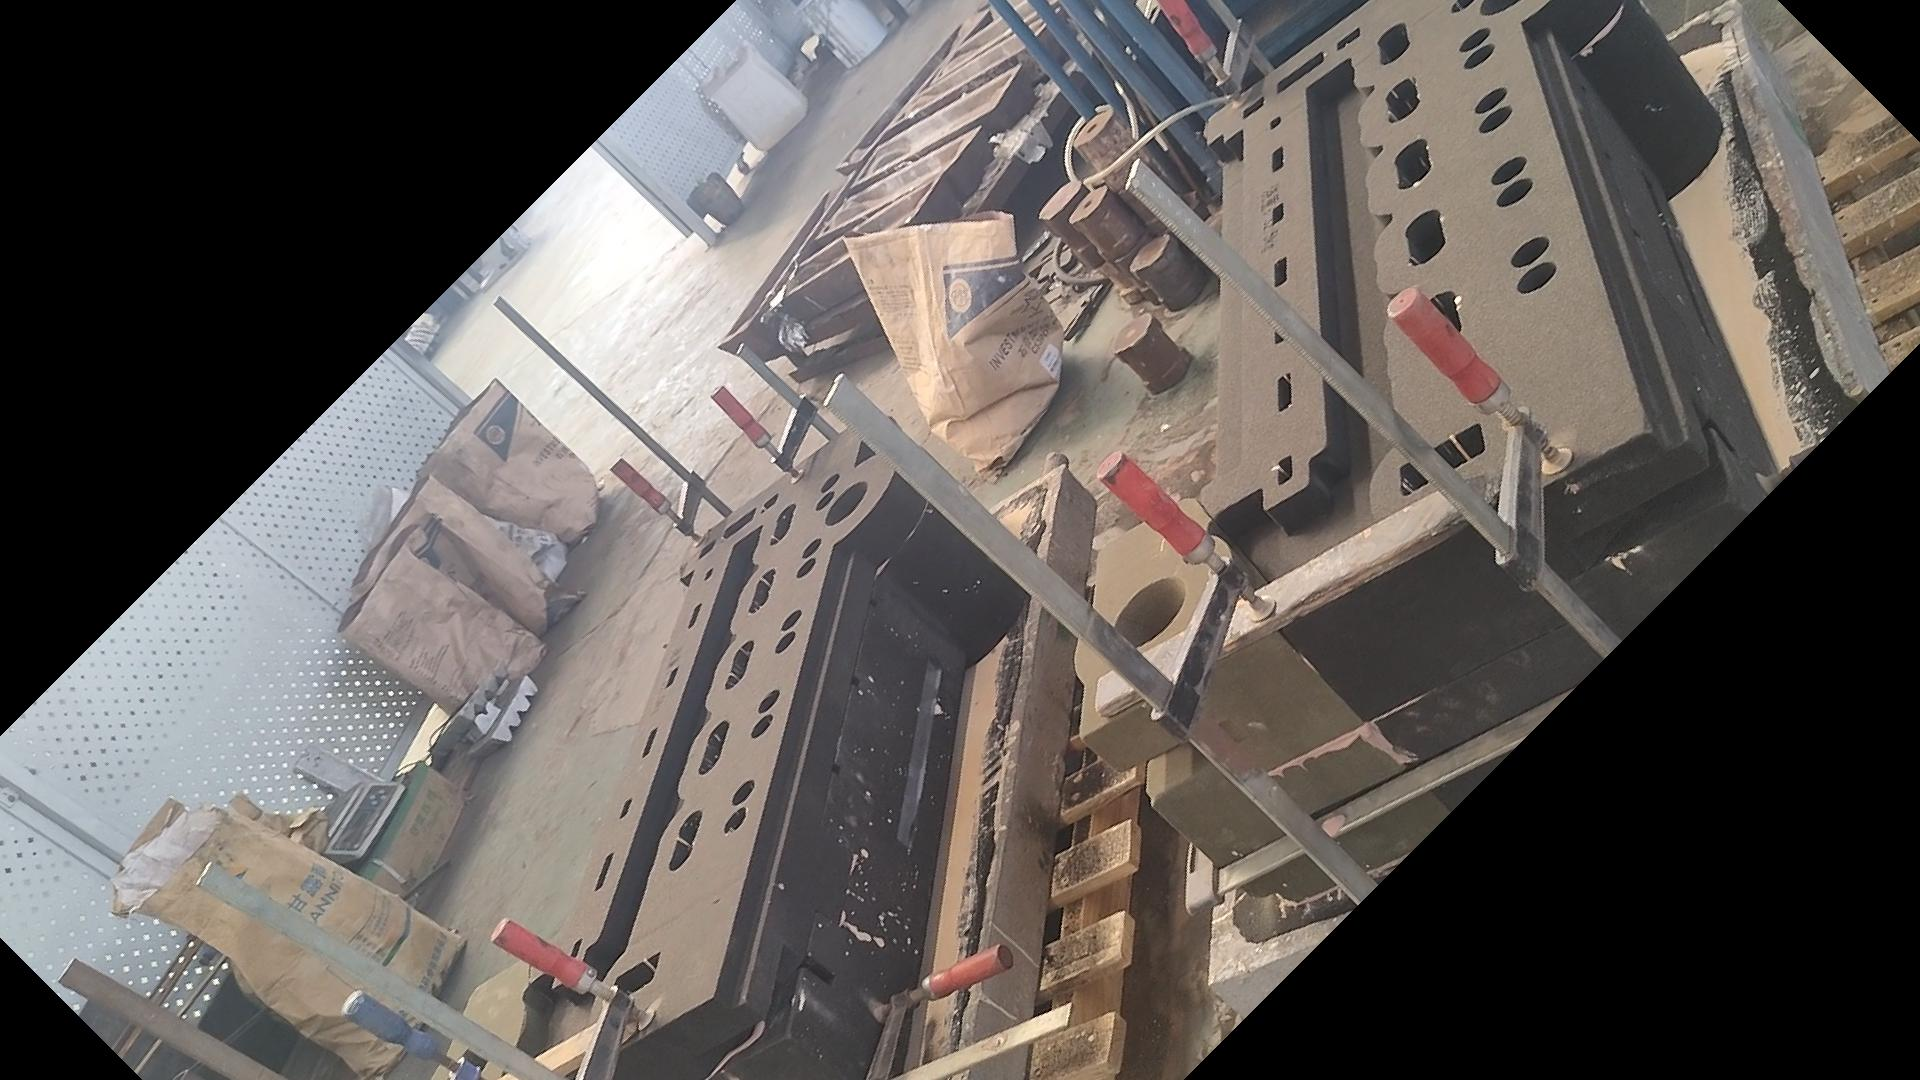pouring hole: (1108, 576, 1188, 647), (440, 1035, 501, 1080), (823, 480, 869, 526), (1476, 1, 1520, 15)
